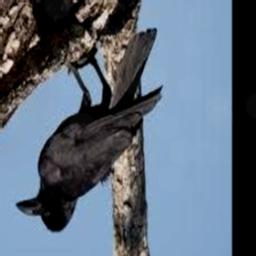Crow: (13, 26, 162, 233)
